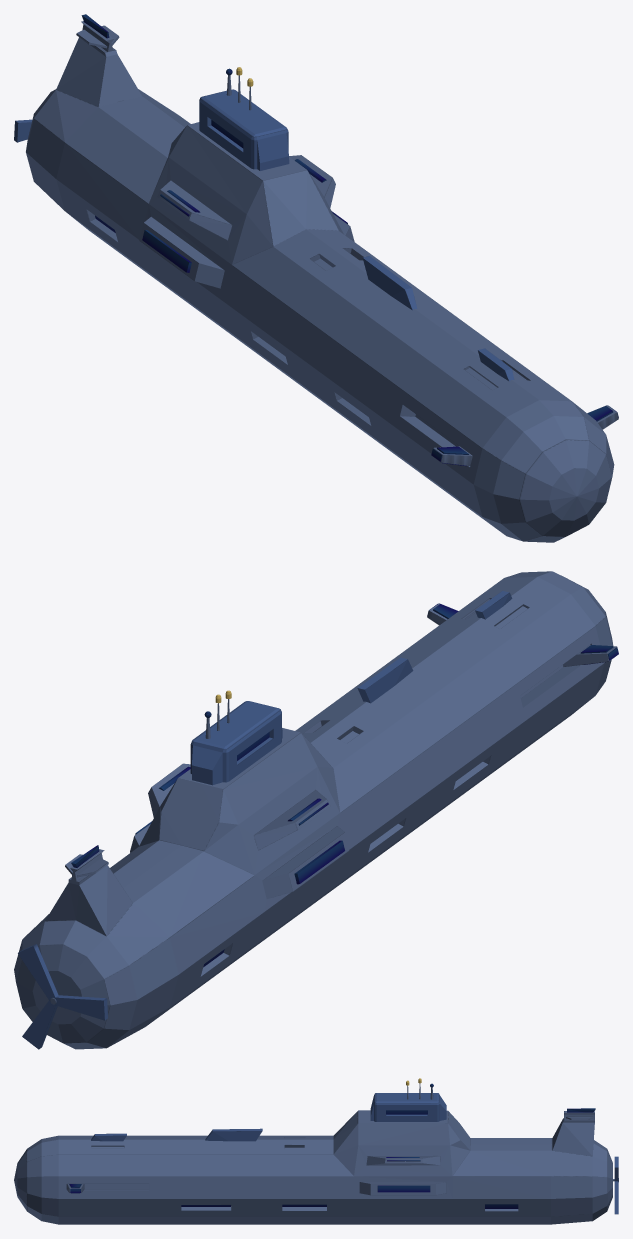
The model's file is submarine.dae.
3 renders of one model, top to bottom at view 1: azimuth 30°, elevation 25°; view 2: azimuth 150°, elevation 25°; view 3: azimuth 270°, elevation 25°, orthographic. The views are drawn at different scales.
Visible parts, largest first — view 1: submarineModel; view 2: submarineModel; view 3: submarineModel.
Boxes of the visible parts, bbox=[...] form: submarineModel: bbox=[14, 14, 618, 542]; submarineModel: bbox=[14, 571, 618, 1049]; submarineModel: bbox=[14, 1078, 618, 1224].
Bounding box in the file's own units: 136 × 178 × 677.
1 material, 1 textured.
